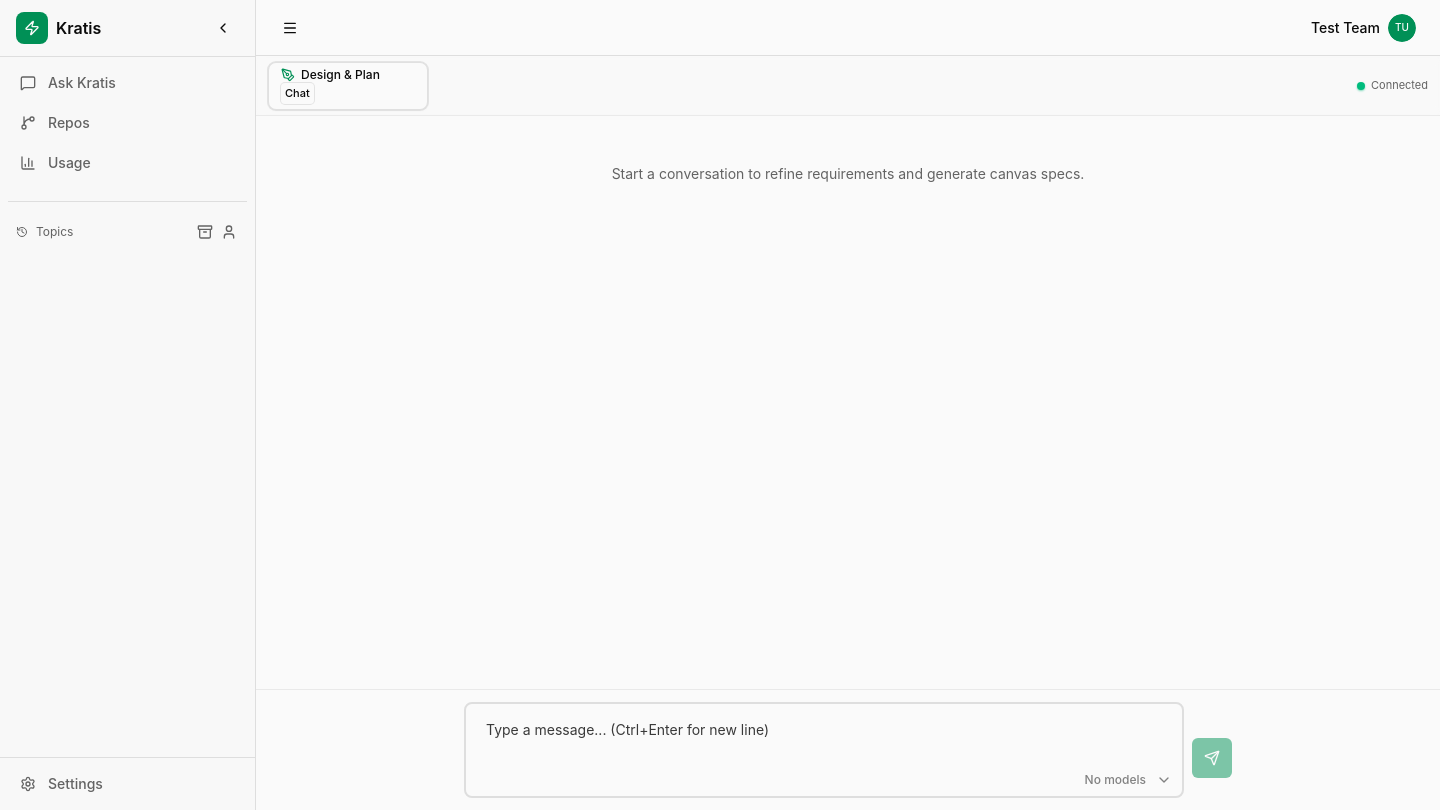
Chat reconnect flow › clears the working indicator when the turn completed while disconnected
Type "Plan the migration" into the text box with placeholder "Type a message... (Ctrl+Enter for new line)" at (824, 750), box x1=474 y1=712 x2=1174 y2=788
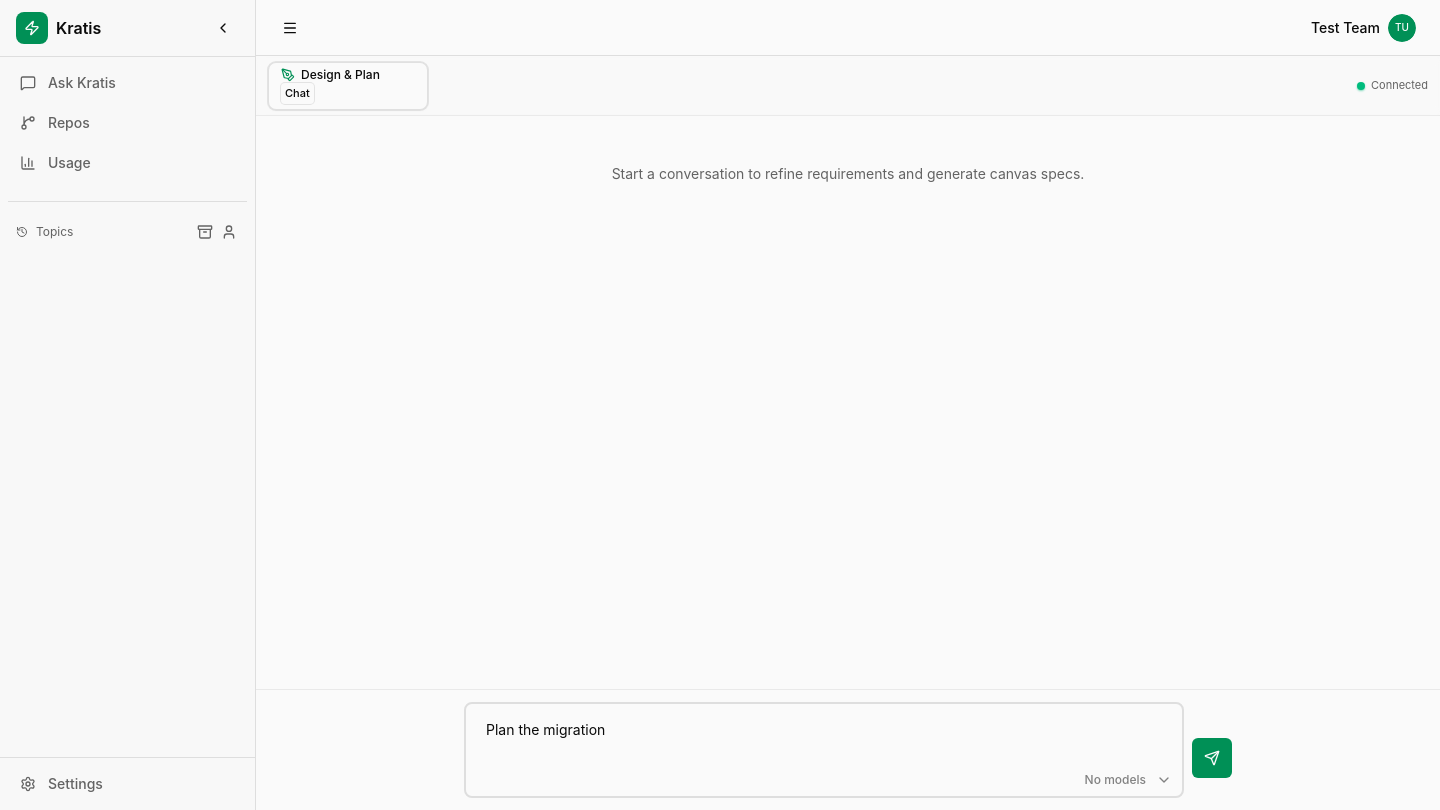
Press Enter
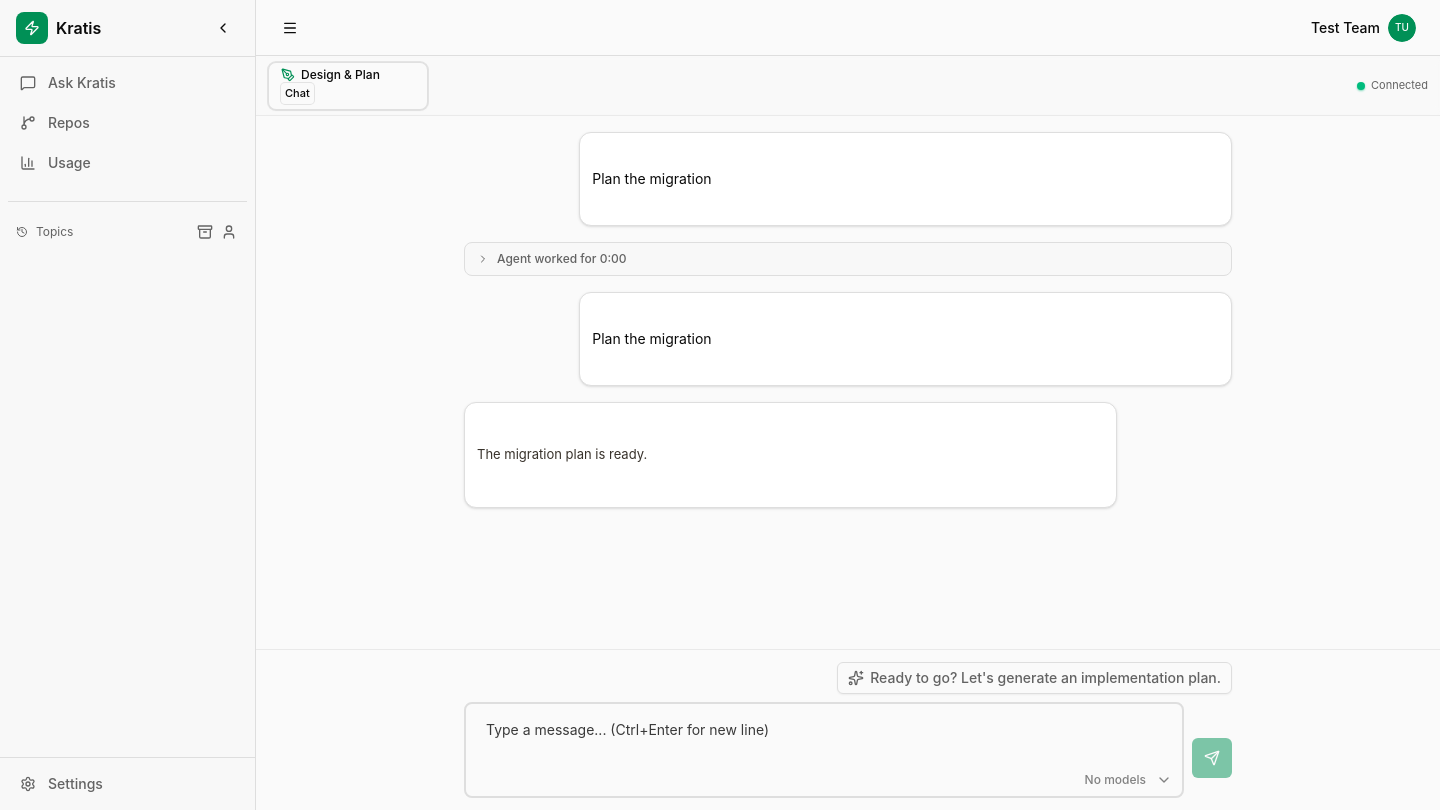
Now the 1st text "Plan the migration" is shown, box x1=592 y1=170 x2=712 y2=187
Now the element with test id "agent-working-block" is shown, box x1=464 y1=242 x2=1232 y2=276
Now the text "The migration plan is ready." is shown, box x1=477 y1=446 x2=647 y2=462
Type "Next step" into the text box with placeholder "Type a message... (Ctrl+Enter for new line)" at (824, 750), box x1=474 y1=712 x2=1174 y2=788
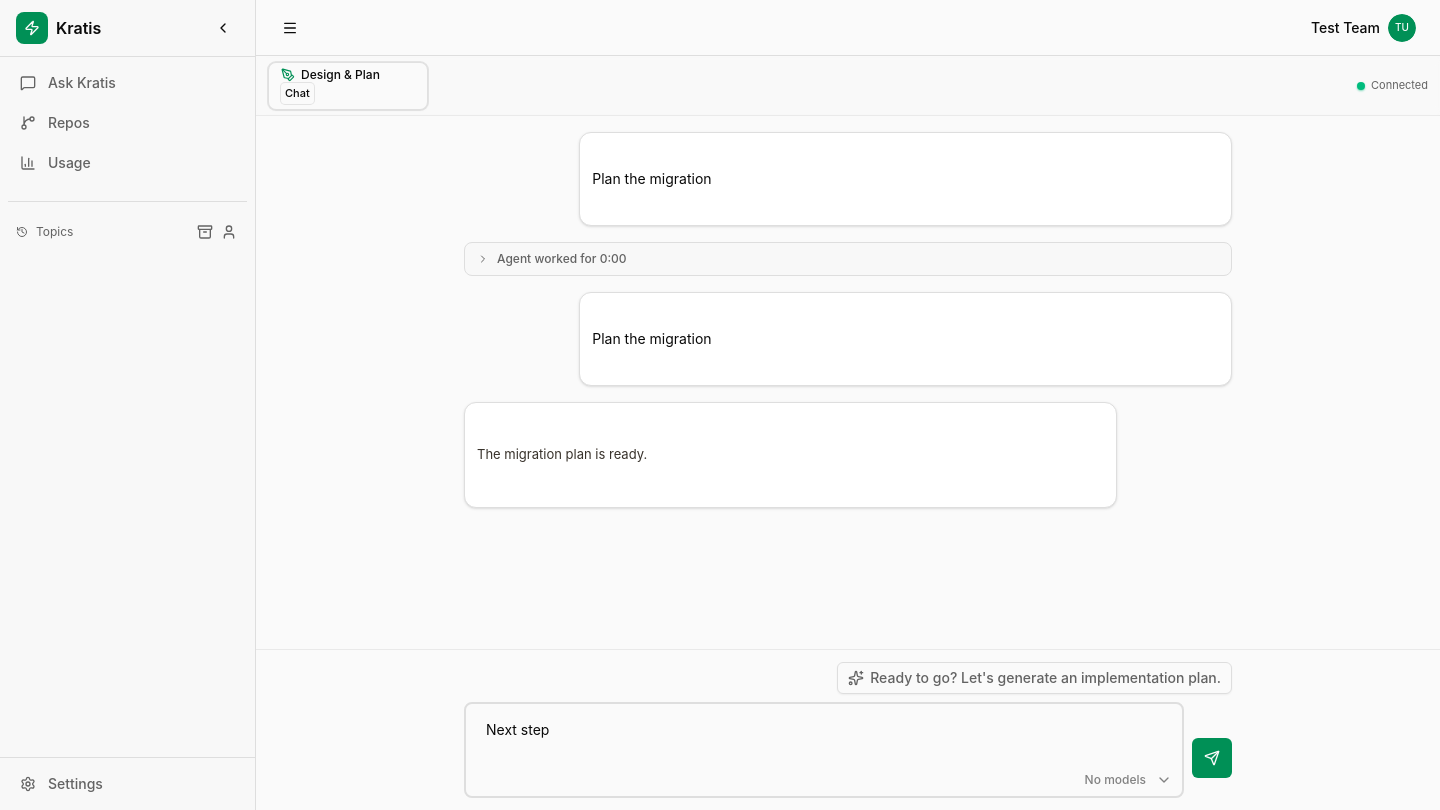
Now the element with test id "plan-shortcut" is shown, box x1=837 y1=662 x2=1232 y2=694
Now the button named "Send" is enabled, box x1=1192 y1=738 x2=1232 y2=778
